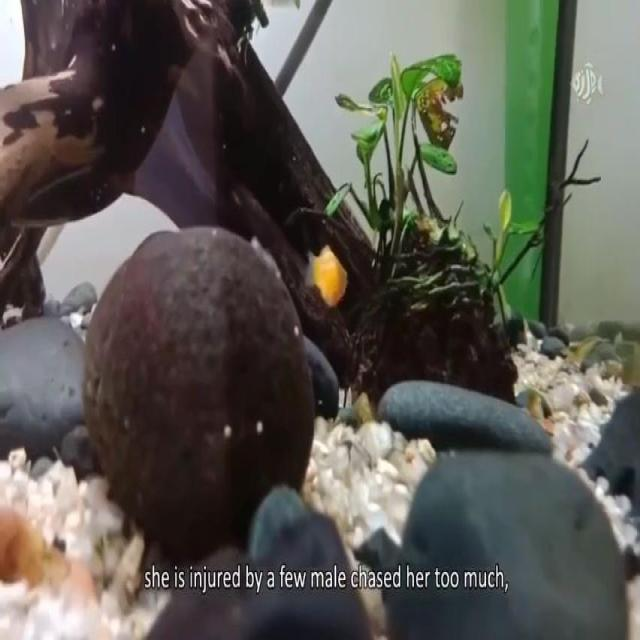PlatyFish: (296, 228, 361, 320)
